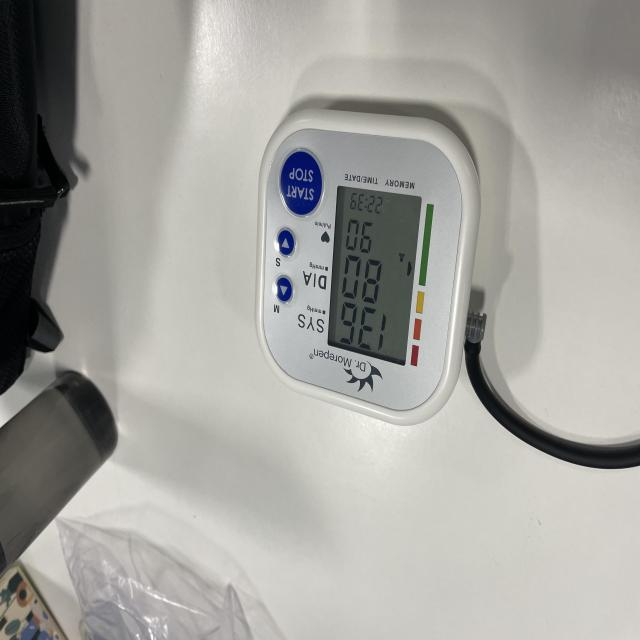bp: (254, 113, 473, 427)
